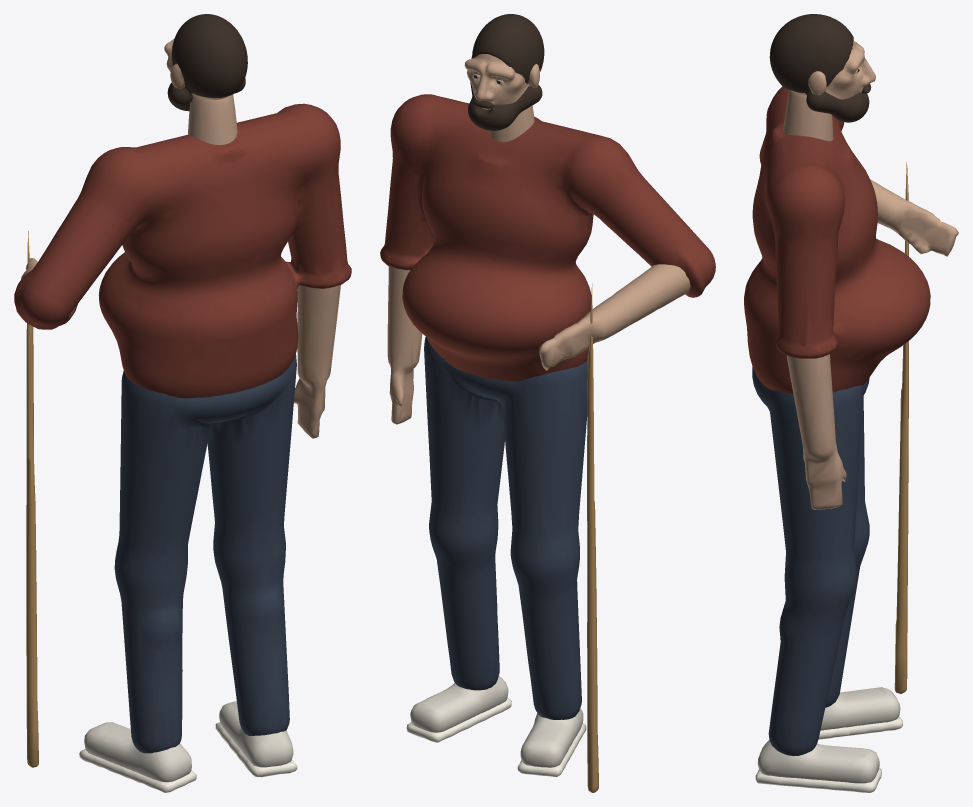
File: bigman.glb
The picture shows the model from 3 angles, left to right: view 1: azimuth 30°, elevation 25°; view 2: azimuth 150°, elevation 25°; view 3: azimuth 270°, elevation 25°; orthographic projection. The views are drawn at different scales.
Visible parts, largest first — view 1: bigman_body, bigman_head; view 2: bigman_body, bigman_head; view 3: bigman_body, bigman_head.
Part boxes in pixels (left/top/right/bottom): bigman_body: left=14, top=94, right=351, bottom=792; bigman_head: left=164, top=14, right=247, bottom=111; bigman_body: left=380, top=94, right=715, bottom=792; bigman_head: left=464, top=14, right=544, bottom=130; bigman_body: left=744, top=86, right=958, bottom=792; bigman_head: left=769, top=14, right=875, bottom=122.
Size of the model in its own units: 0.8932 by 1.91 by 0.5026.
